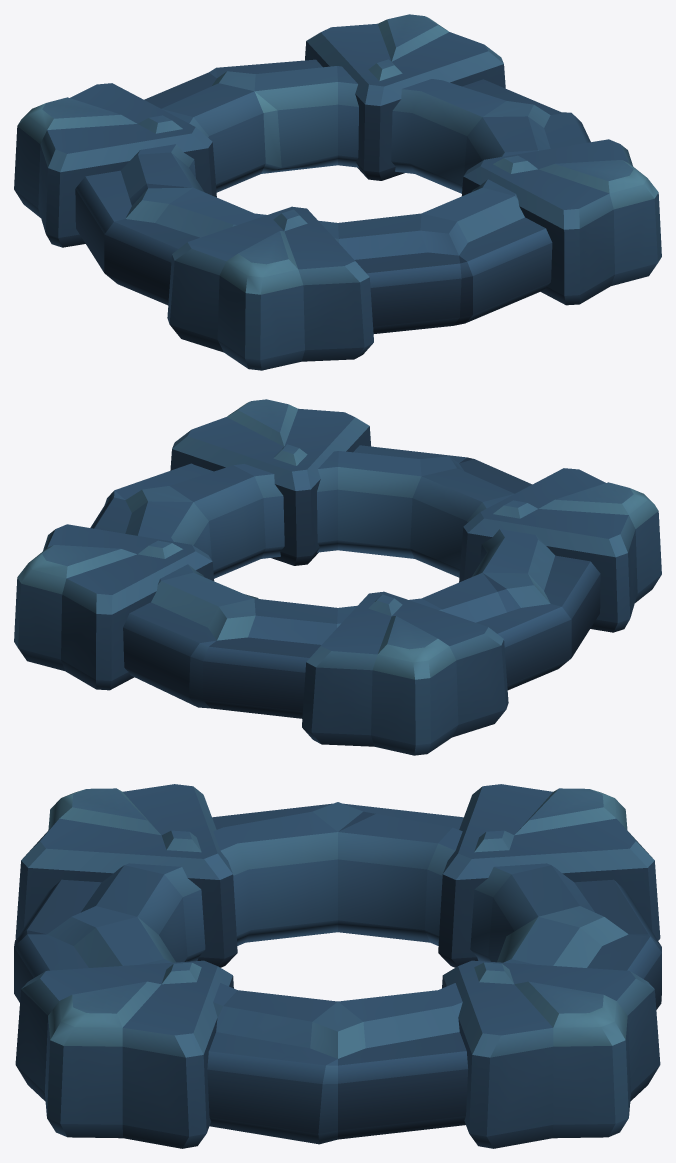
File: floor_deco_element_1.fbx
3 views of the same model, one above another, from view 1: azimuth 30°, elevation 25°; view 2: azimuth 150°, elevation 25°; view 3: azimuth 270°, elevation 25° (orthographic). The views are drawn at different scales.
Visible parts, largest first — view 1: floor_deco_element_1; view 2: floor_deco_element_1; view 3: floor_deco_element_1.
Boxes of the visible parts, x1=… form: floor_deco_element_1: x1=14, y1=14, x2=661, y2=370; floor_deco_element_1: x1=14, y1=399, x2=661, y2=755; floor_deco_element_1: x1=14, y1=784, x2=661, y2=1148.
Bounding box in the file's own units: 305 × 60.71 × 302.
